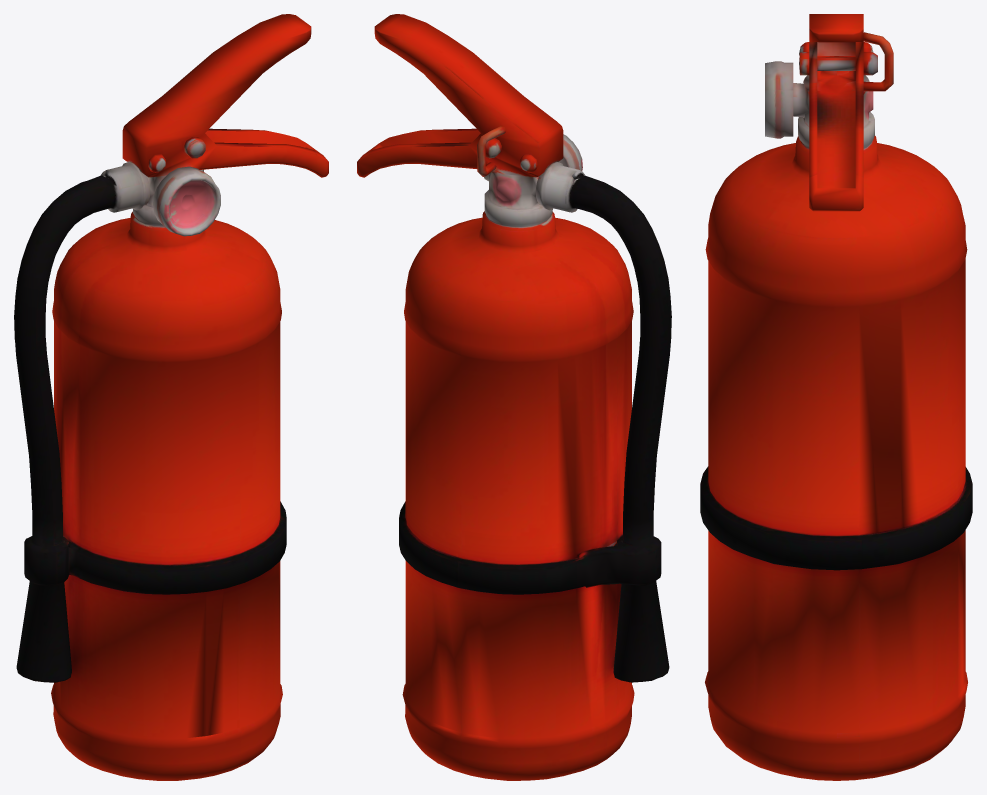
File: fire_extinguisher_wall_mounted_bc0dddd4_v3.glb
3 renders of one model, left to right at view 1: azimuth 30°, elevation 25°; view 2: azimuth 150°, elevation 25°; view 3: azimuth 270°, elevation 25°, orthographic. The views are drawn at different scales.
Parts seen in each view (by area): view 1: material; view 2: material; view 3: material.
Boxes of the visible parts, x1=… form: material: x1=14, y1=14, x2=328, y2=780; material: x1=357, y1=14, x2=671, y2=780; material: x1=700, y1=14, x2=972, y2=780.
Size of the model in its own units: 0.869 by 1.9 by 0.5995.
Materials: 1 (1 with a texture image).
